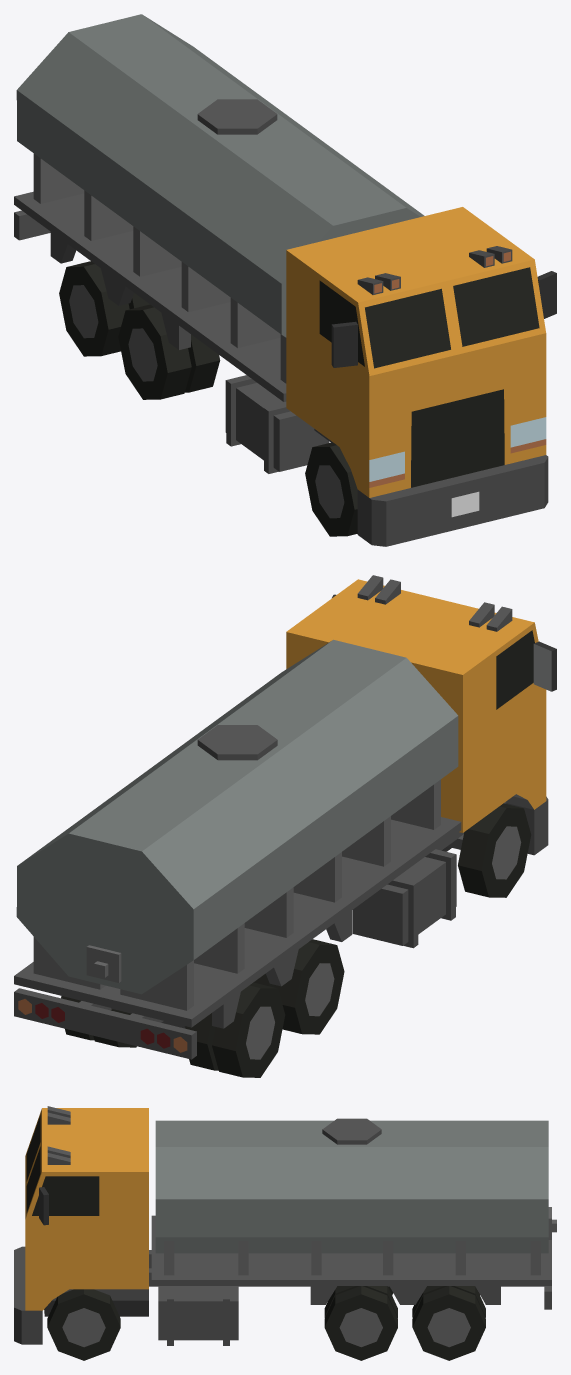
File: Veh_Truck_03_Tank_Yellow.obj
3 views of the same model, one above another, from view 1: azimuth 30°, elevation 25°; view 2: azimuth 150°, elevation 25°; view 3: azimuth 270°, elevation 25° (orthographic). The views are drawn at different scales.
Bounding box in the file's own units: 1.68 × 1.94 × 4.78.
